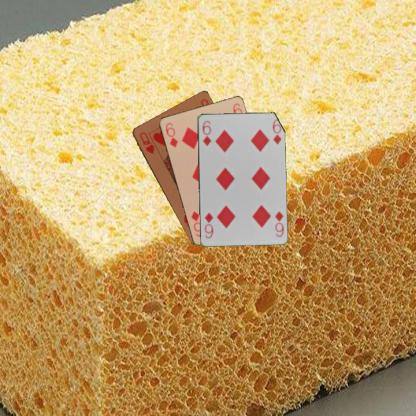6d: (162, 120, 179, 148), (272, 209, 285, 238), (200, 118, 212, 147)
Qh: (136, 129, 155, 155)
